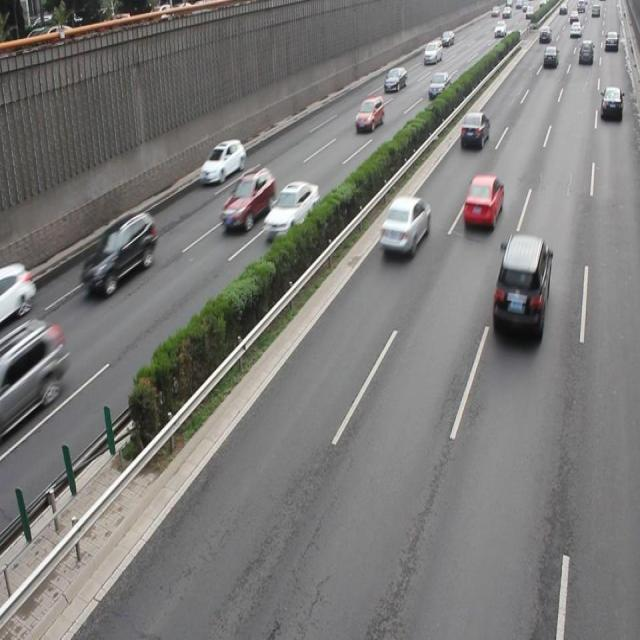car: (0, 318, 64, 430), (80, 210, 157, 294), (491, 234, 550, 341), (219, 165, 275, 233), (264, 180, 320, 242), (378, 196, 430, 258), (461, 175, 503, 230), (199, 138, 246, 184), (1, 261, 34, 323), (458, 112, 488, 150), (354, 96, 382, 132), (599, 84, 622, 122)
